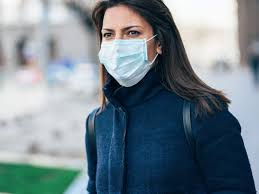mask: (99, 9, 159, 87)
